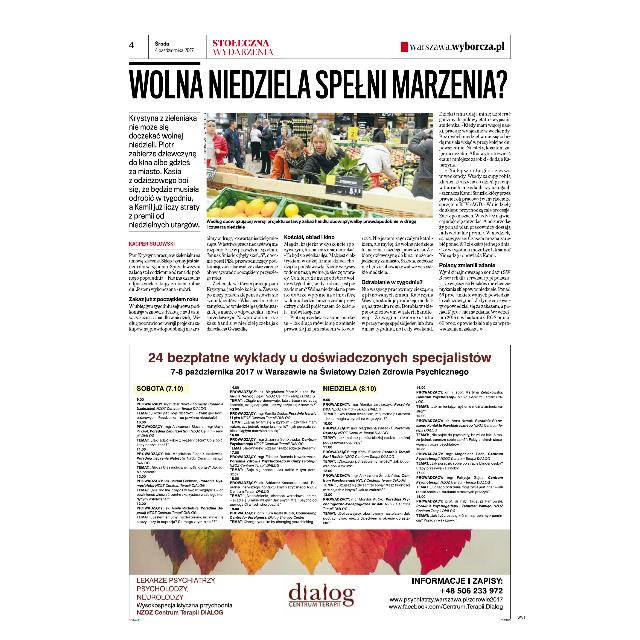article: (125, 61, 512, 335)
